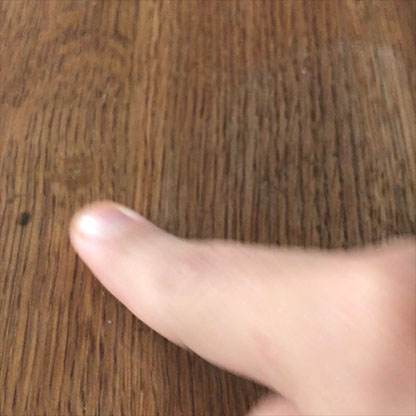fingertip: (57, 183, 141, 273)
